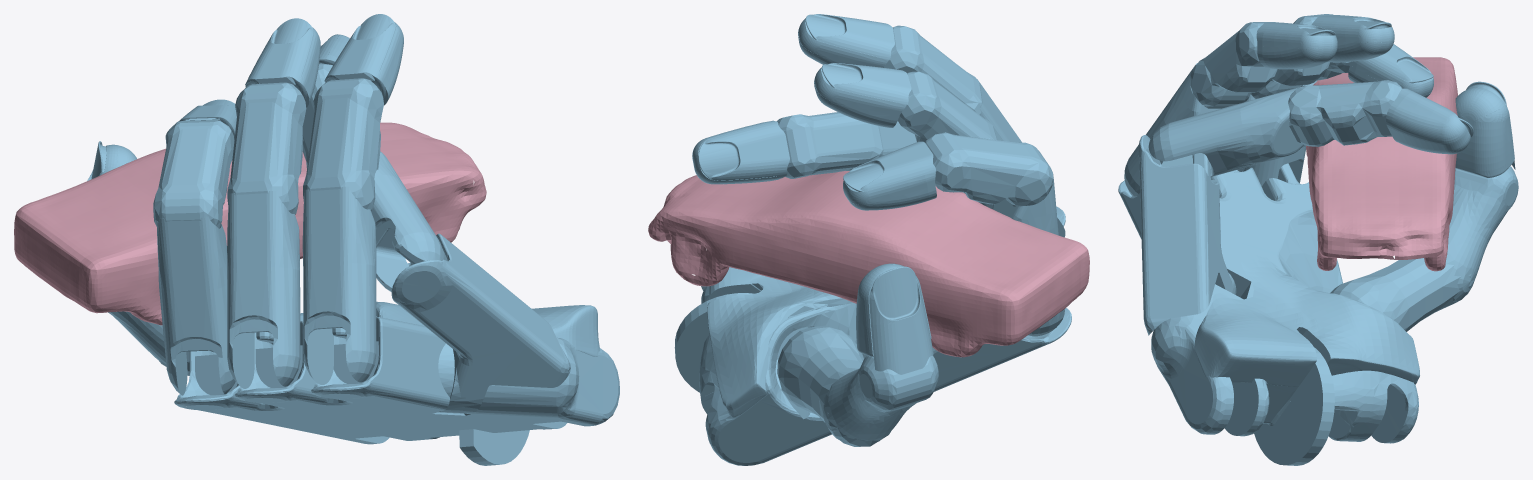
3 renders of one model, left to right at view 1: azimuth 30°, elevation 25°; view 2: azimuth 150°, elevation 25°; view 3: azimuth 270°, elevation 25°, orthographic. The views are drawn at different scales.
Parts seen in each view (by area): view 1: hand, world; view 2: hand, world; view 3: hand, world.
Part boxes in pixels (left/top/right/bottom): hand: left=87, top=14, right=619, bottom=465; world: left=14, top=122, right=486, bottom=325; hand: left=674, top=14, right=1071, bottom=465; world: left=648, top=171, right=1089, bottom=357; hand: left=1118, top=14, right=1518, bottom=465; world: left=1306, top=57, right=1457, bottom=271.
Size of the model in its own units: 0.1497 by 0.1386 by 0.1262.
